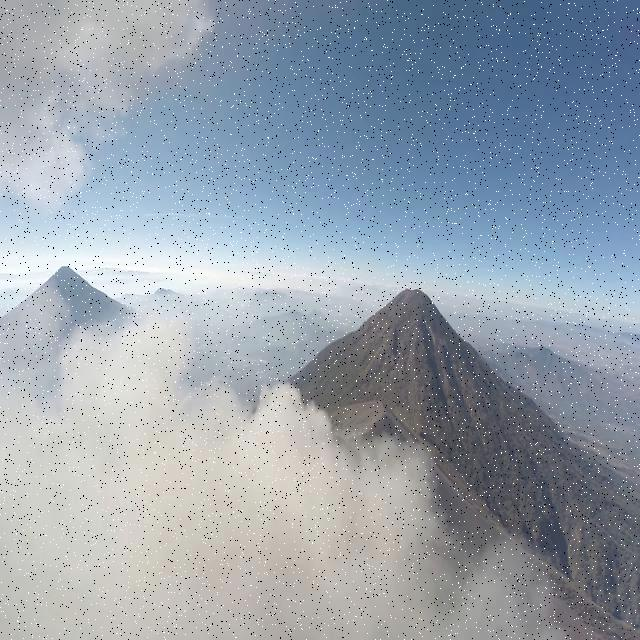Plume: (0, 295, 533, 640), (8, 0, 220, 240)
